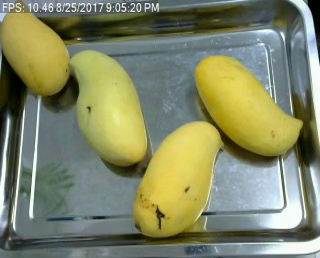Mango: (197, 52, 304, 158), (132, 120, 226, 237), (68, 46, 149, 168), (0, 0, 73, 97)
